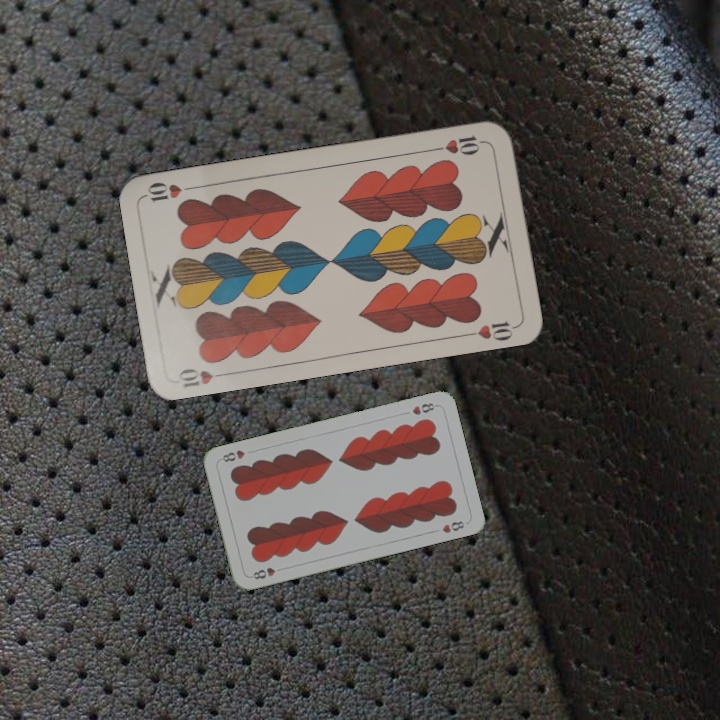H10: (429, 132, 488, 158), (174, 364, 231, 390)
H8: (249, 563, 286, 582), (408, 399, 440, 418)
